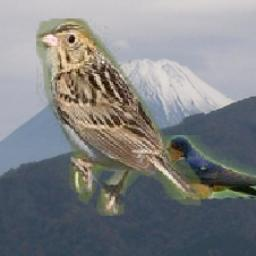Sparrow: (36, 20, 202, 217)
Swallow: (162, 136, 256, 200)
